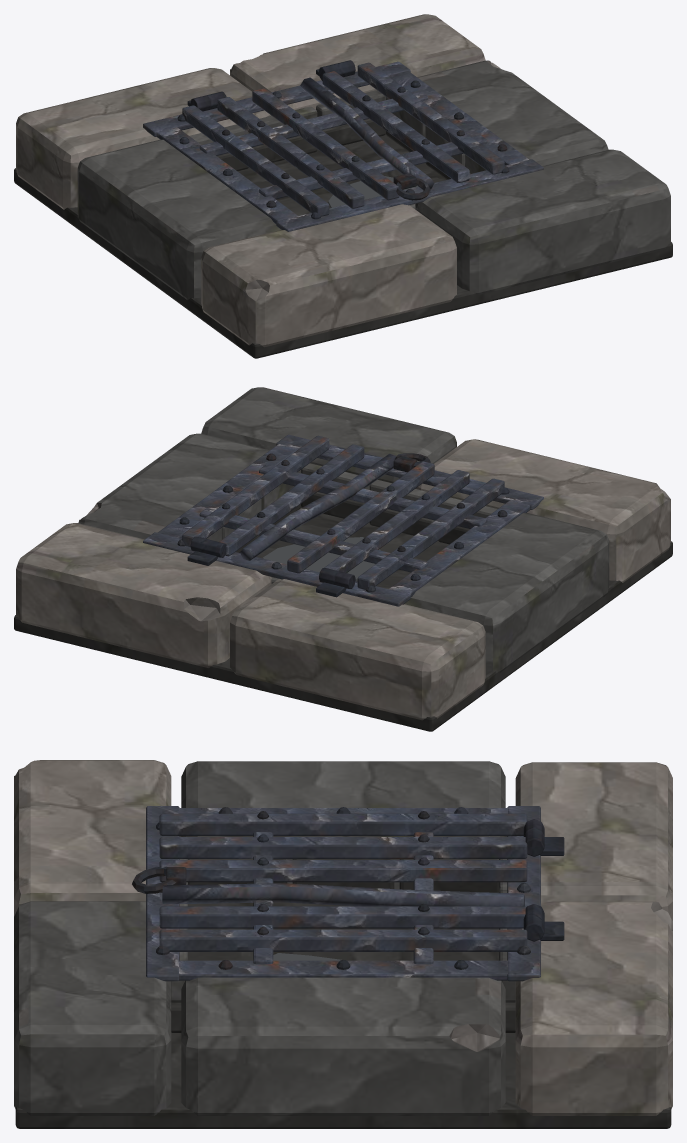
File: floor_grate.glb
3 views of the same model, one above another, from view 1: azimuth 30°, elevation 25°; view 2: azimuth 150°, elevation 25°; view 3: azimuth 270°, elevation 25° (orthographic). The views are drawn at different scales.
Visible parts, largest first — view 1: model; view 2: model; view 3: model.
Part boxes in pixels (x1=…): model: x1=14, y1=14, x2=672, y2=358; model: x1=14, y1=387, x2=672, y2=731; model: x1=14, y1=760, x2=672, y2=1128.
Size of the model in its own units: 0.985 by 0.202 by 0.985.
Materials: 7 (6 with a texture image).
